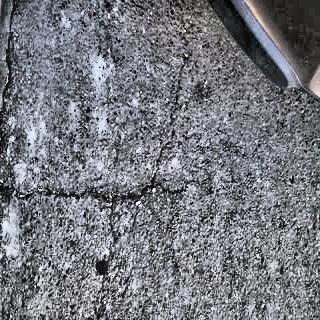crack: (142, 44, 192, 196), (5, 182, 143, 218), (0, 0, 18, 118)
